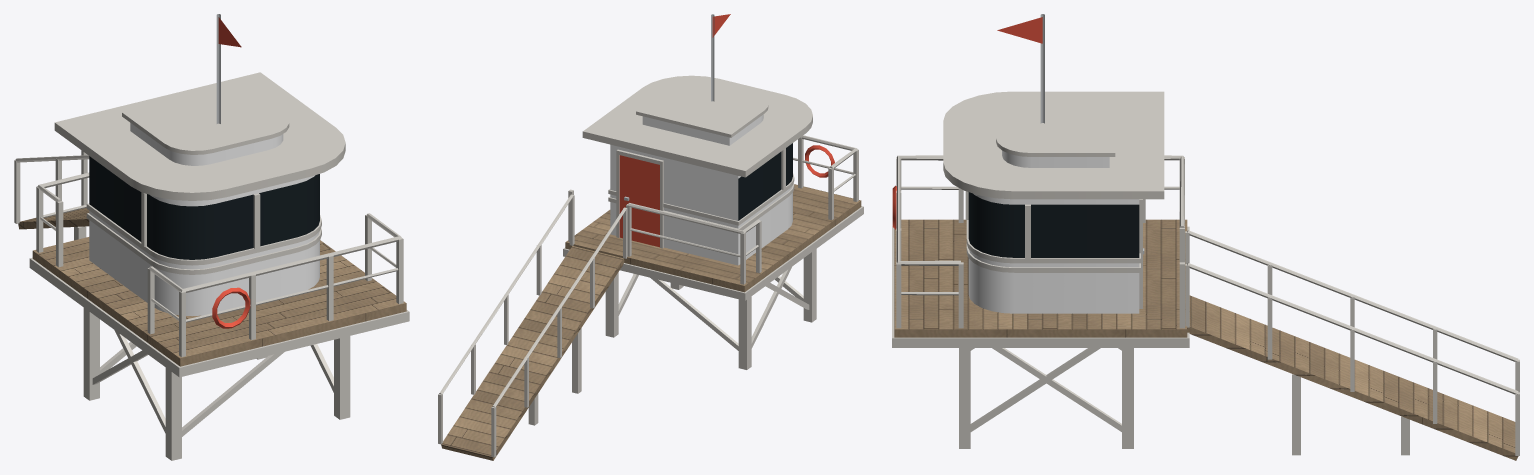
The model's file is lifeguard_tower.gltf.
3 renders of one model, left to right at view 1: azimuth 30°, elevation 25°; view 2: azimuth 150°, elevation 25°; view 3: azimuth 270°, elevation 25°, orthographic. The views are drawn at different scales.
Visible parts, largest first — view 1: lifeguard_tower_body; view 2: lifeguard_tower_body; view 3: lifeguard_tower_body.
Part boxes in pixels (bbox=[...]): lifeguard_tower_body: bbox=[14, 14, 409, 460]; lifeguard_tower_body: bbox=[438, 14, 863, 460]; lifeguard_tower_body: bbox=[892, 14, 1519, 460].
Bounding box in the file's own units: 3.56 × 5.89 × 8.46.
Materials: 6 (1 with a texture image).
